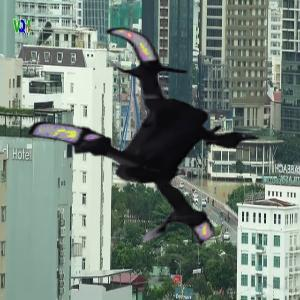drone: (27, 18, 286, 277)
